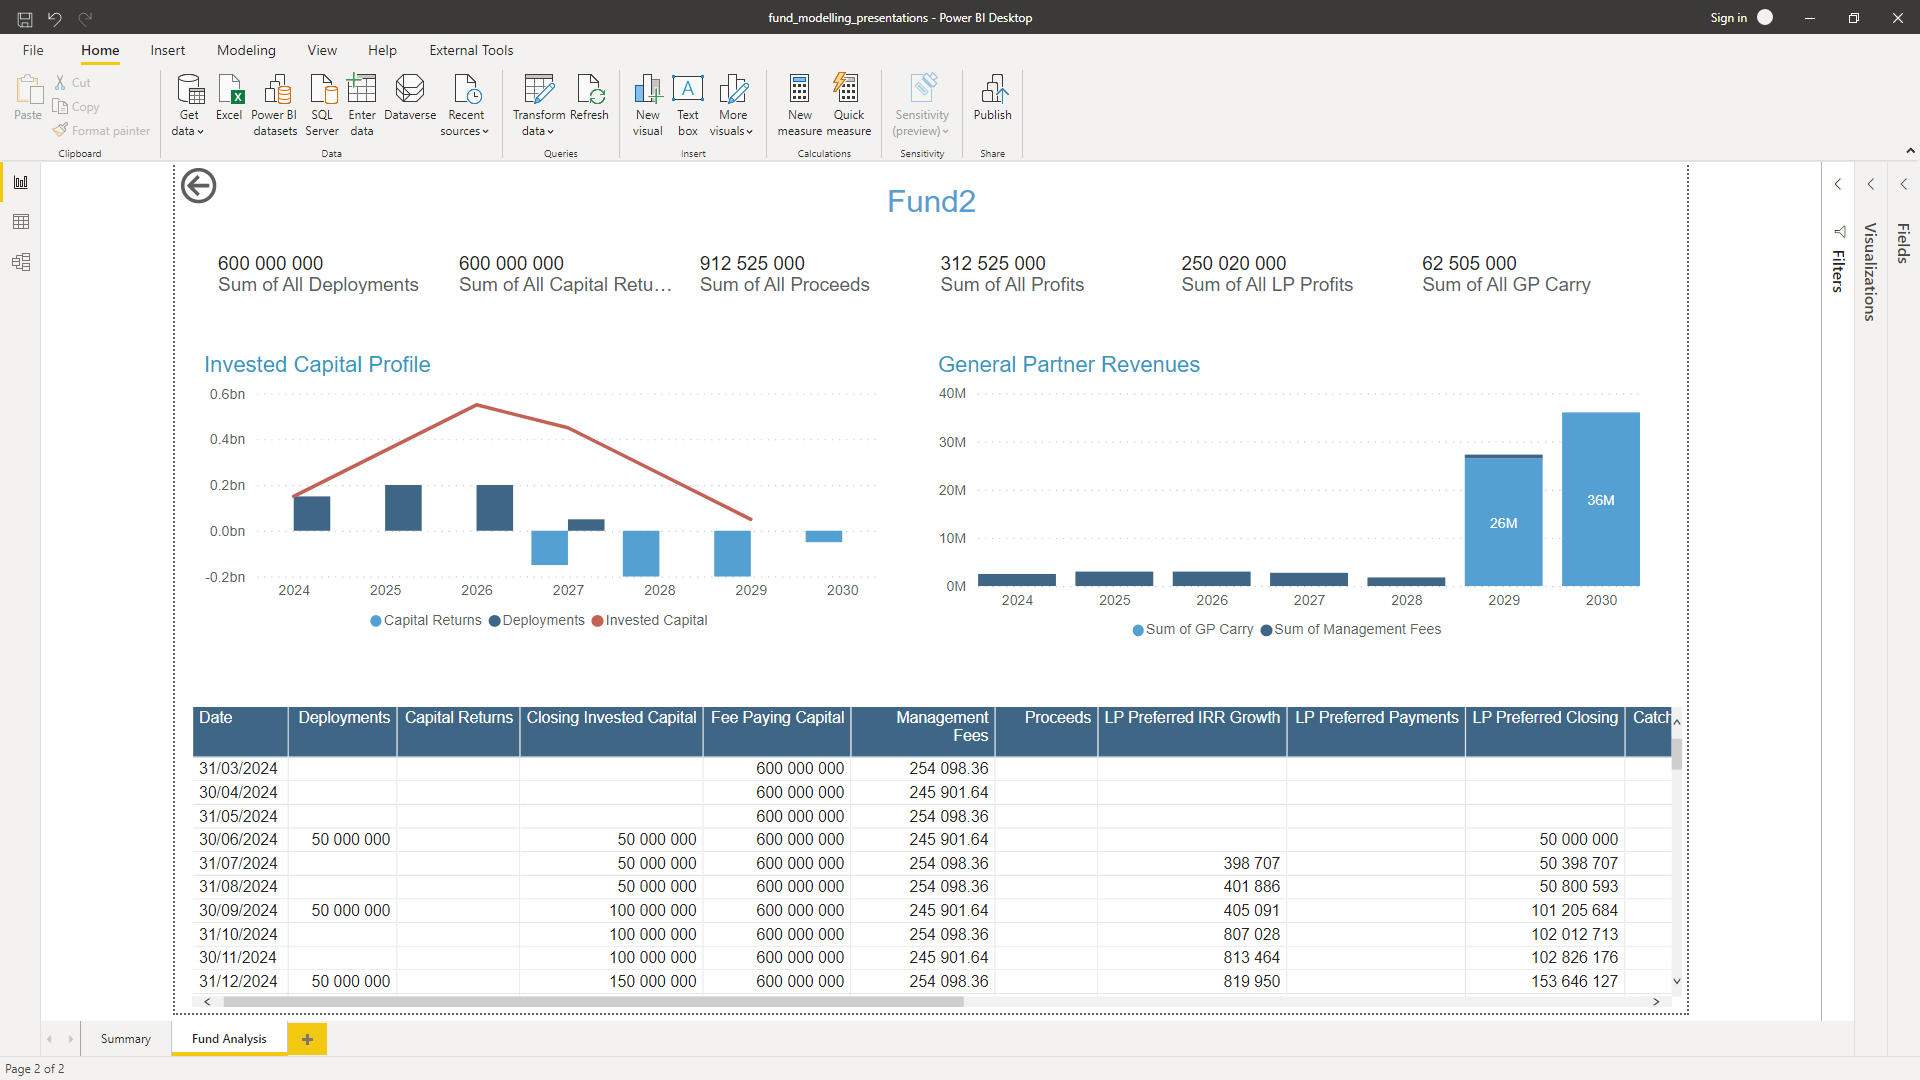

What the dashboard file says about the page in this screenshot:
{"tool":"powerbi","page":{"name":"Fund Analysis","canvas":[1280,720],"ordinal":1},"visuals":[{"type":"tableEx","fields":{"Values":["Fund Data.Date","Sum(Fund Data.Deployments)","Sum(Fund Data.Capital Returns)","Sum(Fund Data.Closing Invested Capital)","Sum(Fund Schedules.Fee Paying Capital)","Sum(Fund Data.Management Fees)","Sum(Fund Data.Proceeds)","Sum(Fund Data.LP Preferred IRR Growth)","Sum(Fund Data.LP Preferred Payments)","Sum(Fund Data.LP Preferred Closing)","Sum(Fund Data.Catch Up Opening)","Sum(Fund Data.Catch Up Accruals)"]},"box":[9.4,456.2,1270.6,264.1],"z":0},{"type":"lineClusteredColumnComboChart","title":"Invested Capital Profile","fields":{"Category":["Date Table.Year"],"Y":["Fund Data.Sum of Capital Returns (-ve)","Fund Data.Sum of Deployments"],"Y2":["Fund Data.Closing Invested Capital at Last Date"]},"box":[19.5,160.5,580.7,245.7],"z":1000},{"type":"columnChart","title":"General Partner Revenues","fields":{"Y":["Date Table.GP Carried Interest Payments","Fund Data.Sum of Management Fees"],"Category":["Date Table.Year"]},"box":[640.7,160.5,604.4,254],"z":2000},{"type":"multiRowCard","fields":{"Values":["Fund Data.Sum All Deployments","Fund Data.Sum of All Capital Returns","Fund Data.Sum of All Proceeds","Fund Data.Sum of All Profits","Fund Data.Sum of All LP Profits","Fund Data.Sum of All GP Carry"]},"box":[19.8,73.1,1244.5,63.7],"z":3000},{"type":"card","fields":{"Values":["Date Table.Title Selected Funds"]},"box":[0,6.3,1280,55.3],"z":4000},{"type":"actionButton","box":[0,0,47.9,39.9],"z":5000}]}

Visuals, with their boxes on the page's 1280x720 design canvas (x1, y1, x2, y2). These are canvas units, not pixel positions in the 1920x1080 screenshot, which may show the page scaled, cropped or inside an application window:
tableEx - Fund Data.Date x Sum(Fund Data.Deployments): (left=9, top=456, right=1280, bottom=720)
"Invested Capital Profile" lineClusteredColumnComboChart: (left=20, top=160, right=600, bottom=406)
"General Partner Revenues" columnChart: (left=641, top=160, right=1245, bottom=414)
multiRowCard - Fund Data.Sum All Deployments x Fund Data.Sum of All Capital Returns: (left=20, top=73, right=1264, bottom=137)
card - Date Table.Title Selected Funds: (left=0, top=6, right=1280, bottom=62)
actionButton: (left=0, top=0, right=48, bottom=40)
